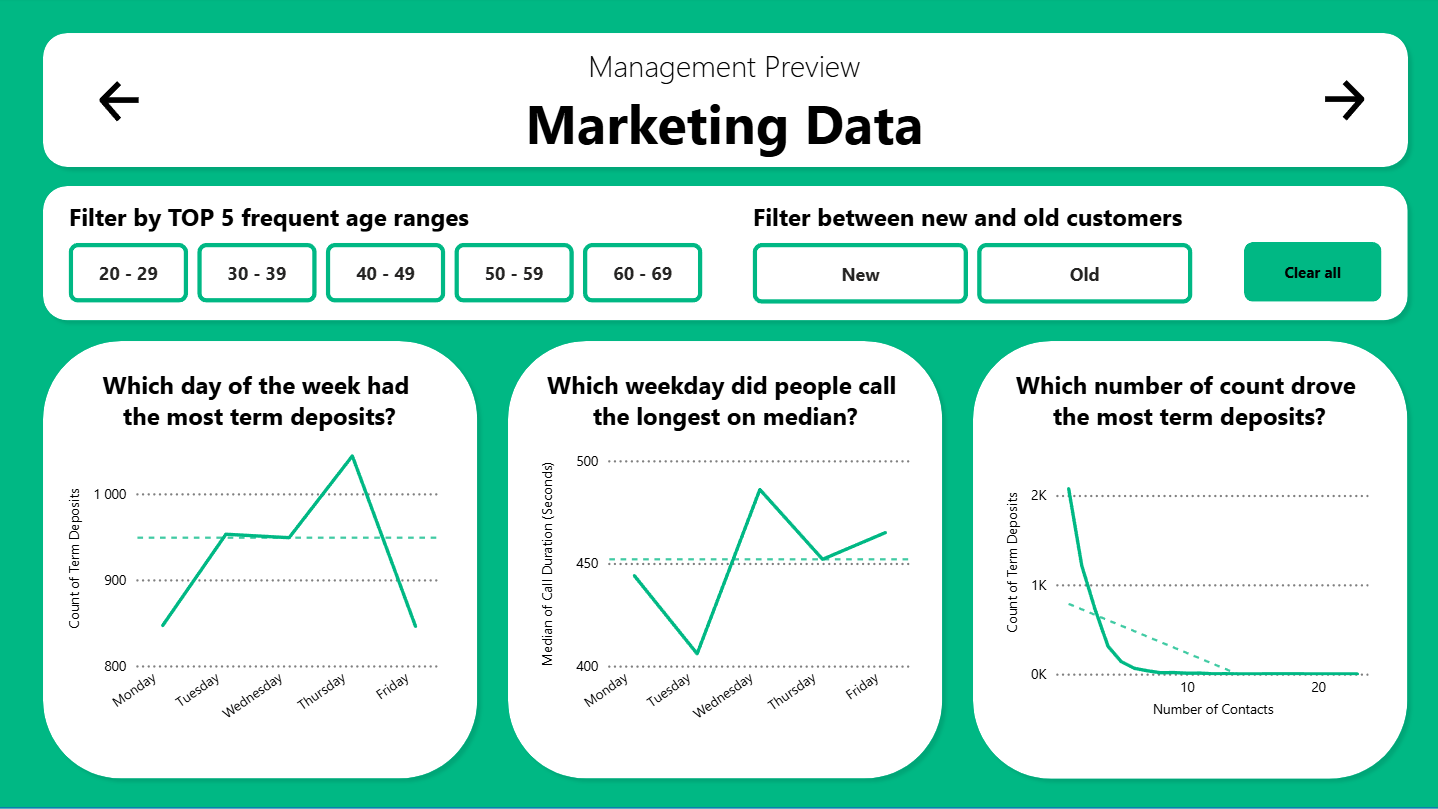

The dashboard page shown, as its layout file describes it:
{"tool":"powerbi","page":{"name":"Marketing Data","canvas":[1280,720],"ordinal":1},"visuals":[{"type":"shape","box":[0,0,1280,719.5],"z":0},{"type":"shape","box":[32,160,1226,135],"z":1000},{"type":"shape","box":[31.6,24.2,1226.3,134.7],"z":2000},{"type":"shape","box":[444,297,401,404],"z":3000},{"type":"shape","box":[856.8,296.8,401.1,404.2],"z":4000},{"type":"shape","box":[32,297,401,404],"z":5000},{"type":"textbox","box":[39,37,1210,112],"z":6000},{"type":"lineChart","fields":{"Y":["CountNonNull(bank_report.y)"],"Category":["bank_report.campaign"]},"box":[889,388,331,255],"z":7000},{"type":"lineChart","fields":{"Y":["Median(bank_report.duration)"],"Category":["bank_report.day_name"]},"box":[477,397,337,266],"z":8000},{"type":"lineChart","title":"Which day ","fields":{"Y":["CountNonNull(bank_report.y)"],"Category":["bank_report.day_name"]},"box":[57.9,388.4,340,274.7],"z":9000},{"type":"textbox","box":[39,323.8,385.3,72.6],"z":10000},{"type":"textbox","box":[452,324,385,72],"z":11000},{"type":"advancedSlicerVisual","title":"Filter by TOP 5 frequent age ranges","fields":{"Values":["bank_report.age_range"]},"box":[57.9,179.9,575.8,96.8],"z":12000},{"type":"actionButton","box":[1105,217,122,53],"z":13000},{"type":"advancedSlicerVisual","title":"Filter between new and old customers","fields":{"Values":["bank_report.new_customer"]},"box":[664,180,400,97],"z":14000},{"type":"textbox","box":[864,324,385,72],"z":15000},{"type":"actionButton","box":[1170,69.5,46,45],"z":16000},{"type":"actionButton","box":[86,70,46,45],"z":17000}]}

Visuals, with their boxes in screenshot pixels (x1, y1, x2, y2), scaled from the page's 1280x720 canvas onto the 1438x809 screenshot:
shape: Rect(0, 0, 1437, 808)
shape: Rect(36, 180, 1413, 331)
shape: Rect(36, 27, 1413, 179)
shape: Rect(499, 334, 949, 788)
shape: Rect(963, 333, 1413, 788)
shape: Rect(36, 334, 486, 788)
textbox: Rect(44, 42, 1403, 167)
lineChart - CountNonNull(bank_report.y) x bank_report.campaign: Rect(999, 436, 1371, 722)
lineChart - Median(bank_report.duration) x bank_report.day_name: Rect(536, 446, 914, 745)
"Which day " lineChart: Rect(65, 436, 447, 745)
textbox: Rect(44, 364, 477, 445)
textbox: Rect(508, 364, 940, 445)
"Filter by TOP 5 frequent age ranges" advancedSlicerVisual: Rect(65, 202, 712, 311)
actionButton: Rect(1241, 244, 1378, 303)
"Filter between new and old customers" advancedSlicerVisual: Rect(746, 202, 1195, 311)
textbox: Rect(971, 364, 1403, 445)
actionButton: Rect(1314, 78, 1366, 129)
actionButton: Rect(97, 79, 148, 129)
